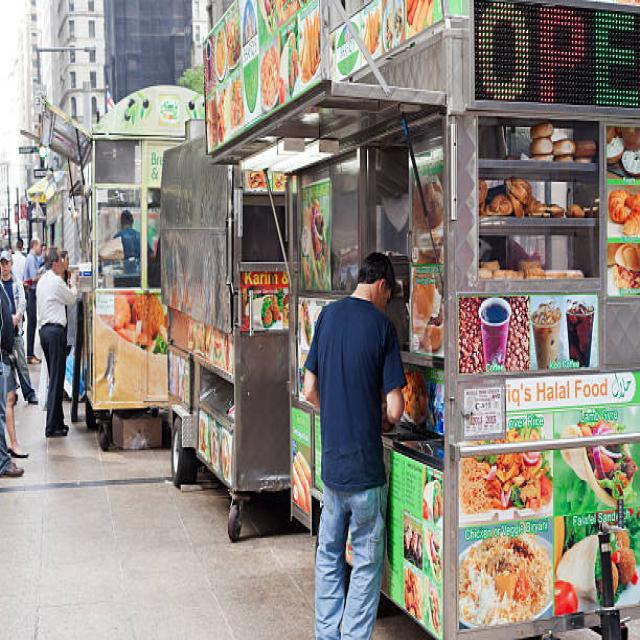Emperan: (191, 0, 640, 640), (29, 77, 237, 448)
